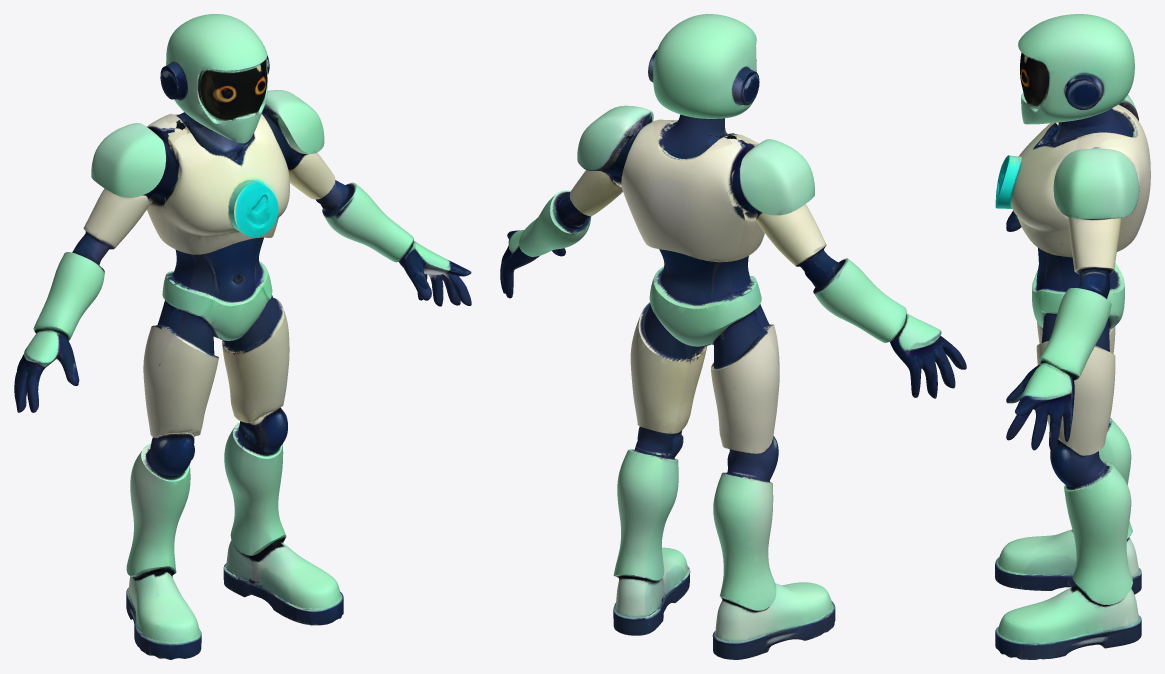
File: base_basic_pbr.glb
The picture shows the model from 3 angles, left to right: view 1: azimuth 30°, elevation 25°; view 2: azimuth 150°, elevation 25°; view 3: azimuth 270°, elevation 25°; orthographic projection. The views are drawn at different scales.
Parts seen in each view (by area): view 1: model; view 2: model; view 3: model.
Boxes of the visible parts, x1,y1,x2,y2 form: model: (14,14,471,659); model: (500,14,966,659); model: (995,14,1150,659).
Size of the model in its own units: 1.5 by 1.9 by 0.4518.
Materials: 1 (1 with a texture image).
